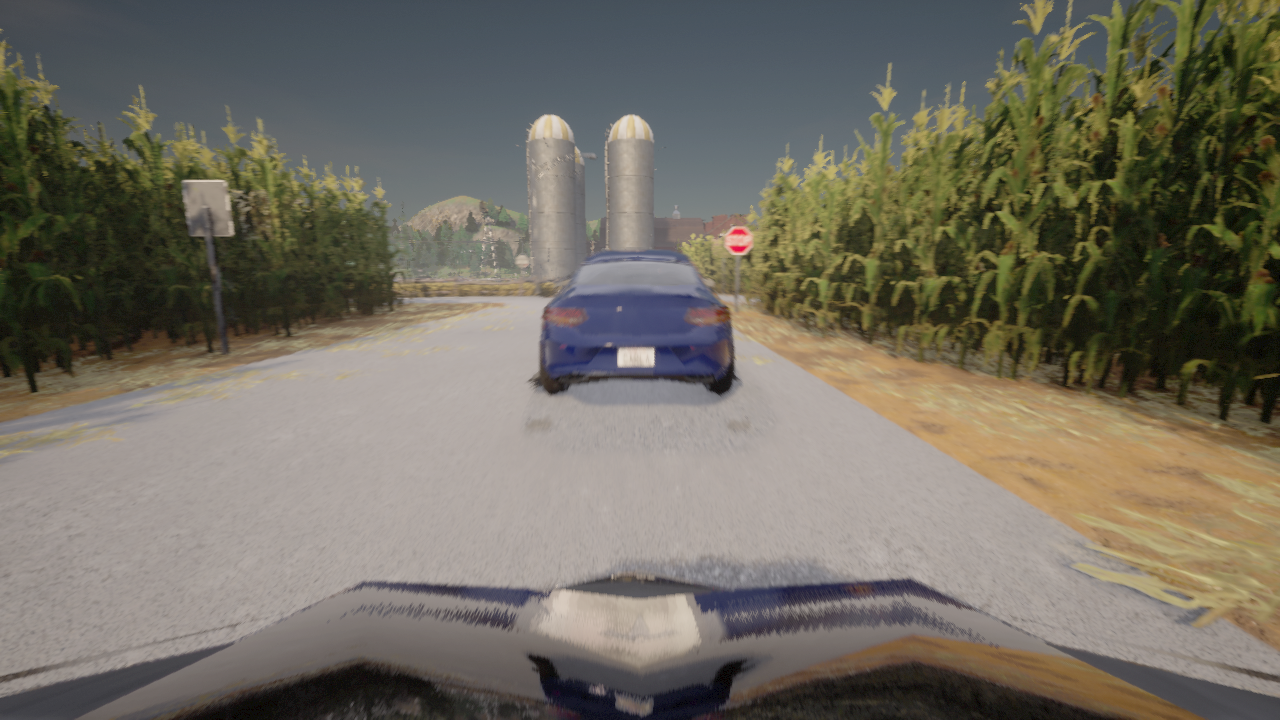cyclist: (0, 569, 1279, 719), (524, 249, 741, 394), (553, 272, 574, 297), (452, 276, 473, 281), (416, 275, 435, 279), (487, 276, 501, 279), (504, 277, 512, 281)
